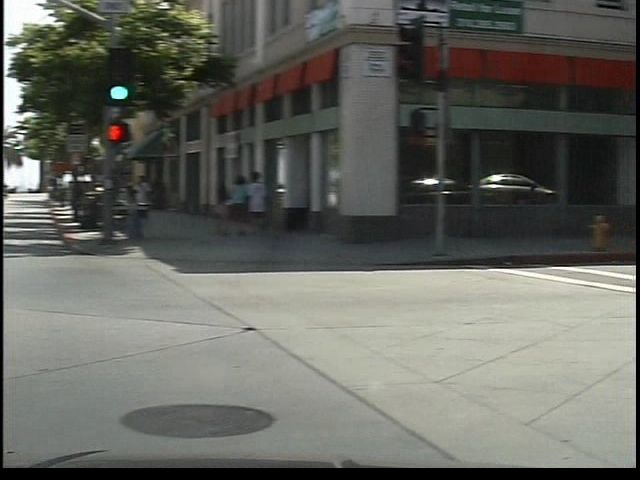person: (142, 169, 169, 232)
